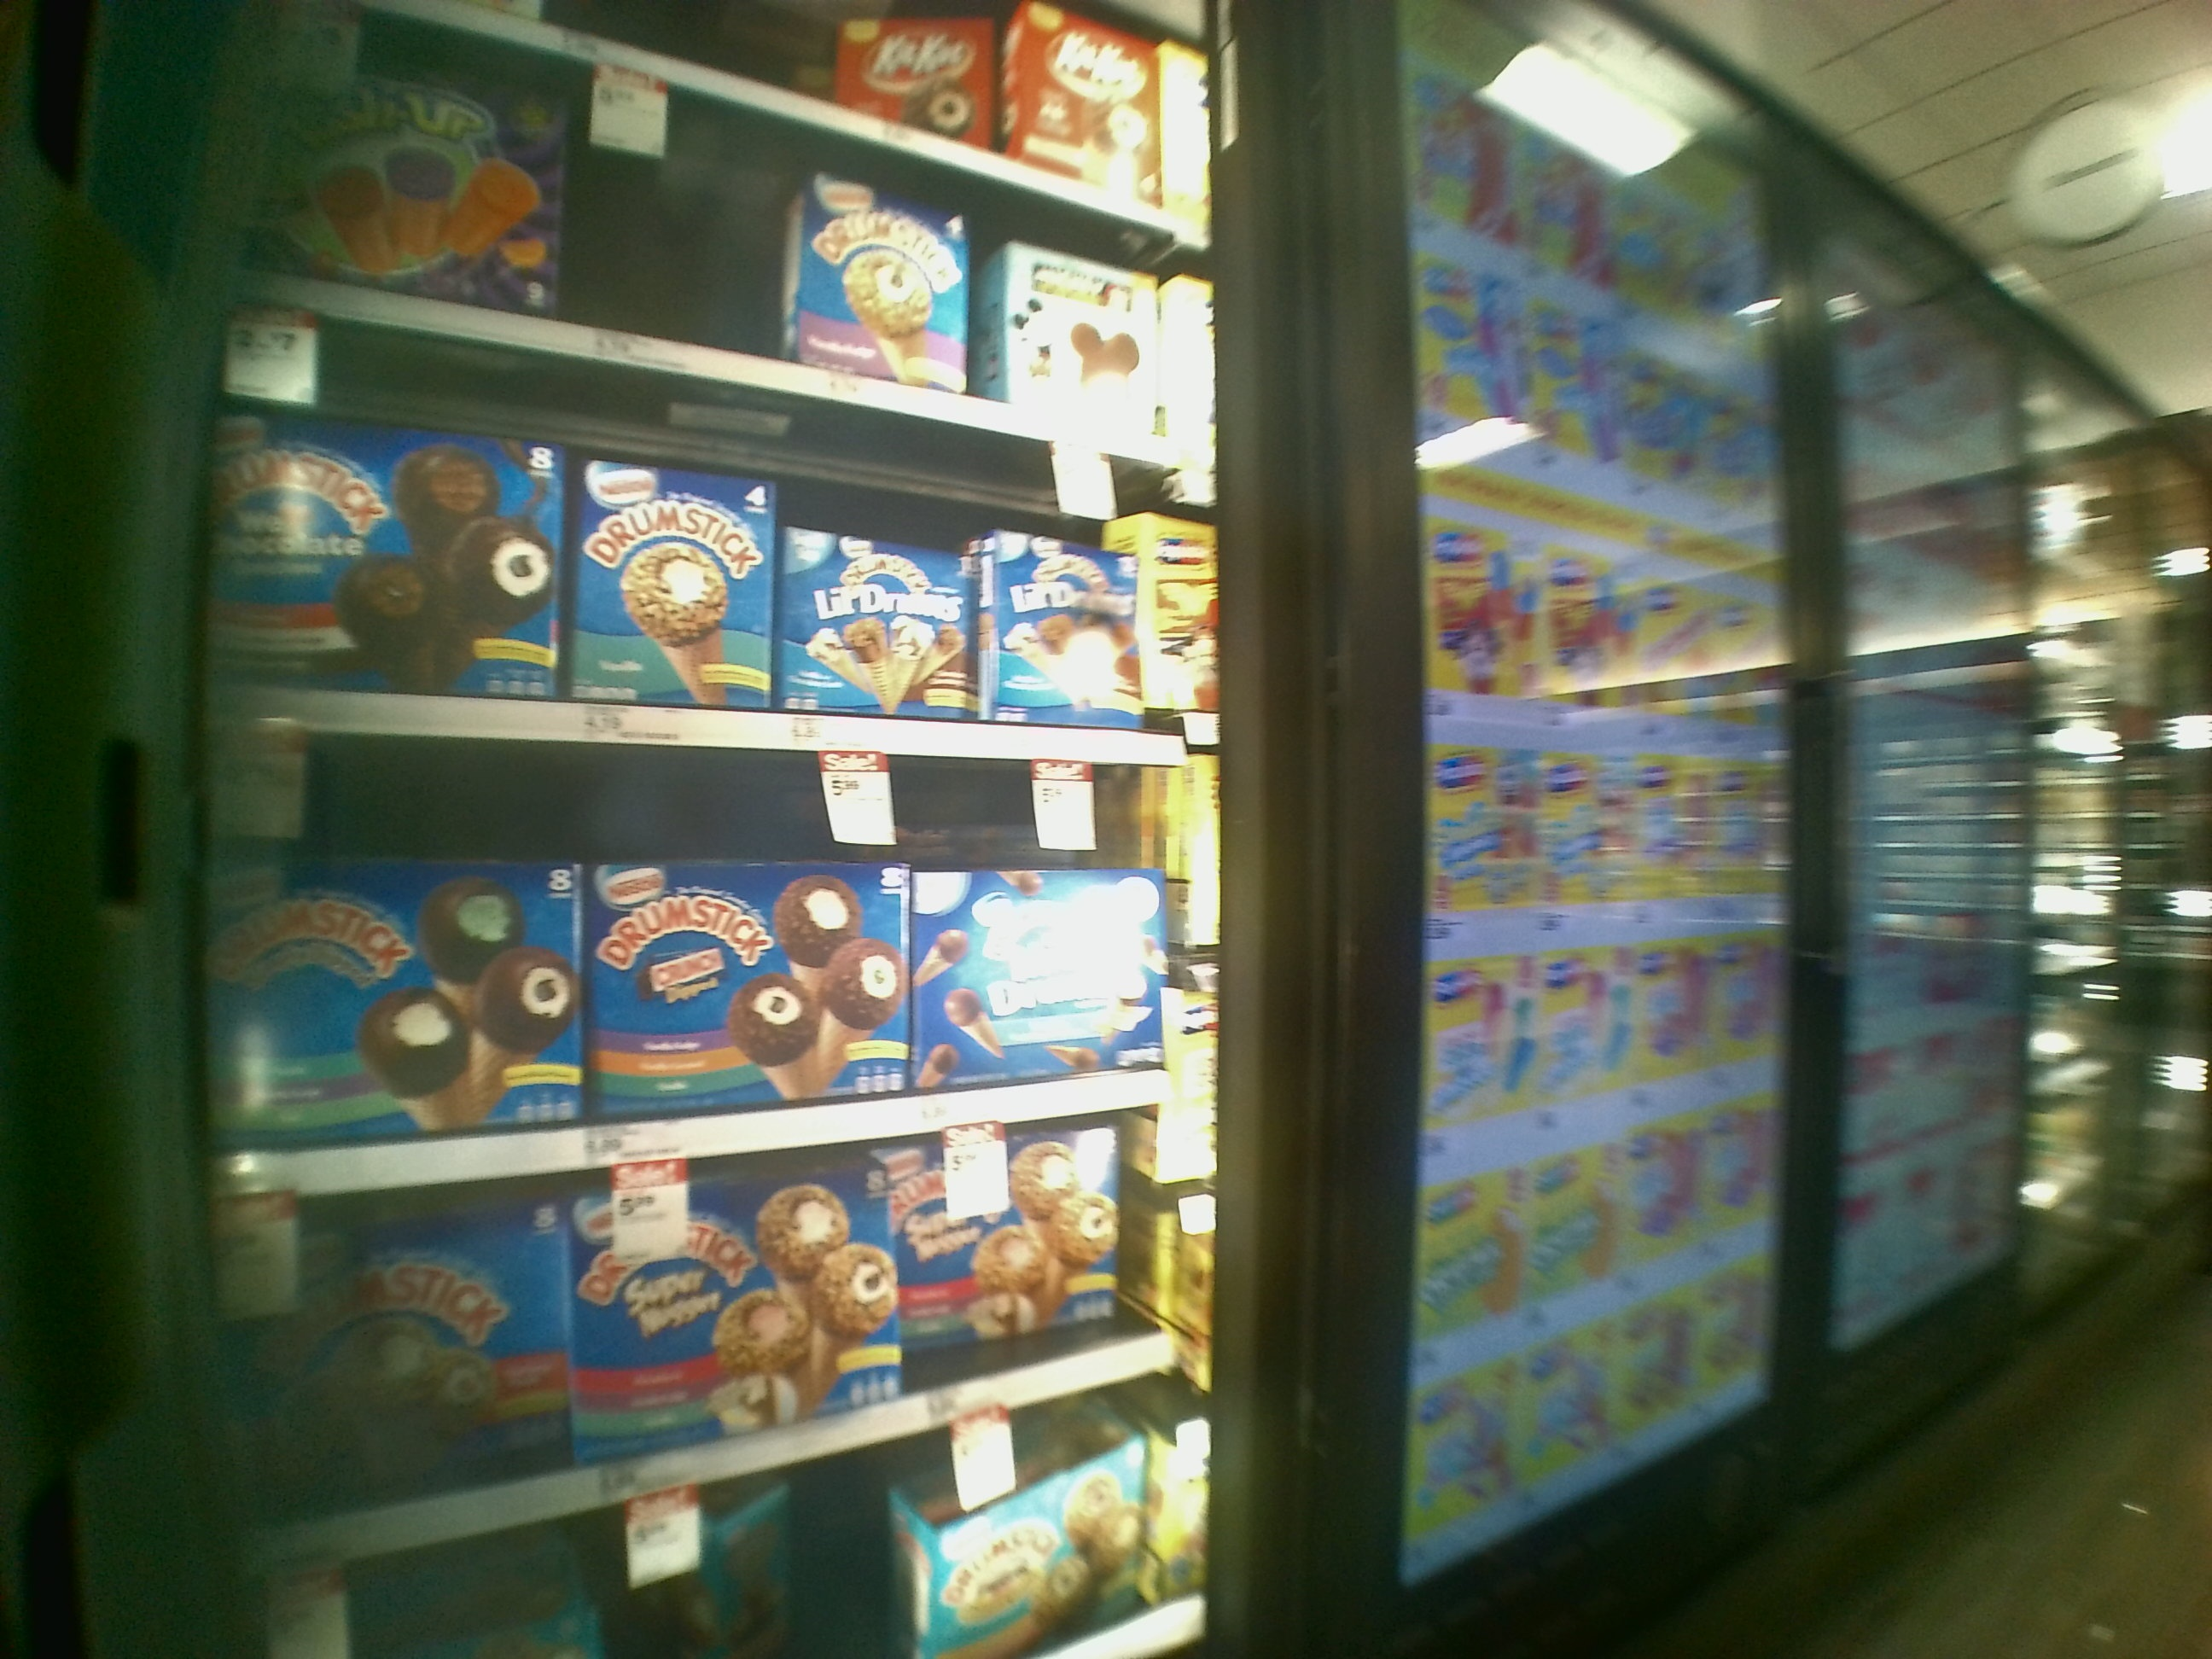shelf: (209, 1093, 1209, 1577), (209, 732, 1207, 1201), (218, 300, 1219, 756)
